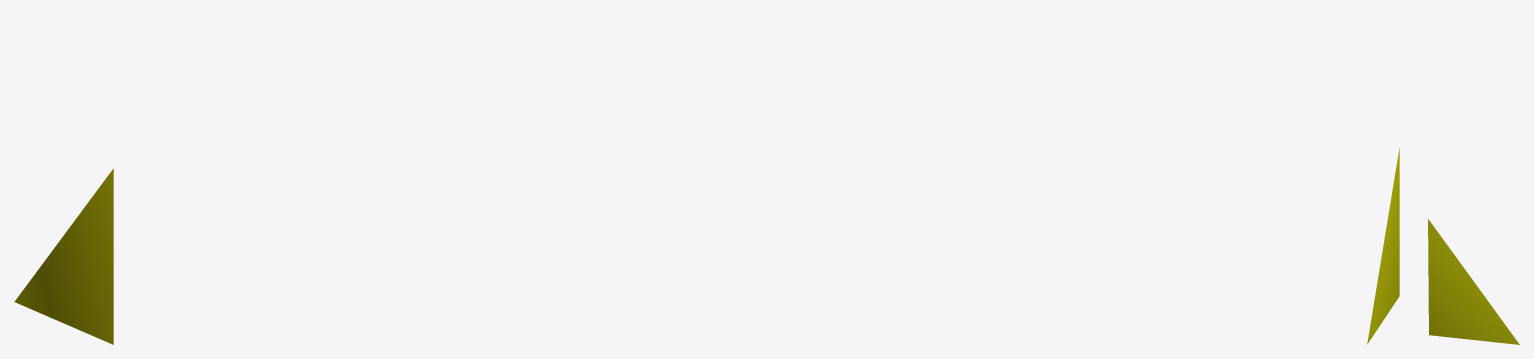
Rendered from Forehead1_94.glb.
3 views of the same model, side by side, from view 1: azimuth 30°, elevation 25°; view 2: azimuth 150°, elevation 25°; view 3: azimuth 270°, elevation 25° (orthographic). The views are drawn at different scales.
Bounding box in the file's own units: 52.6 × 12.79 × 9.13.
